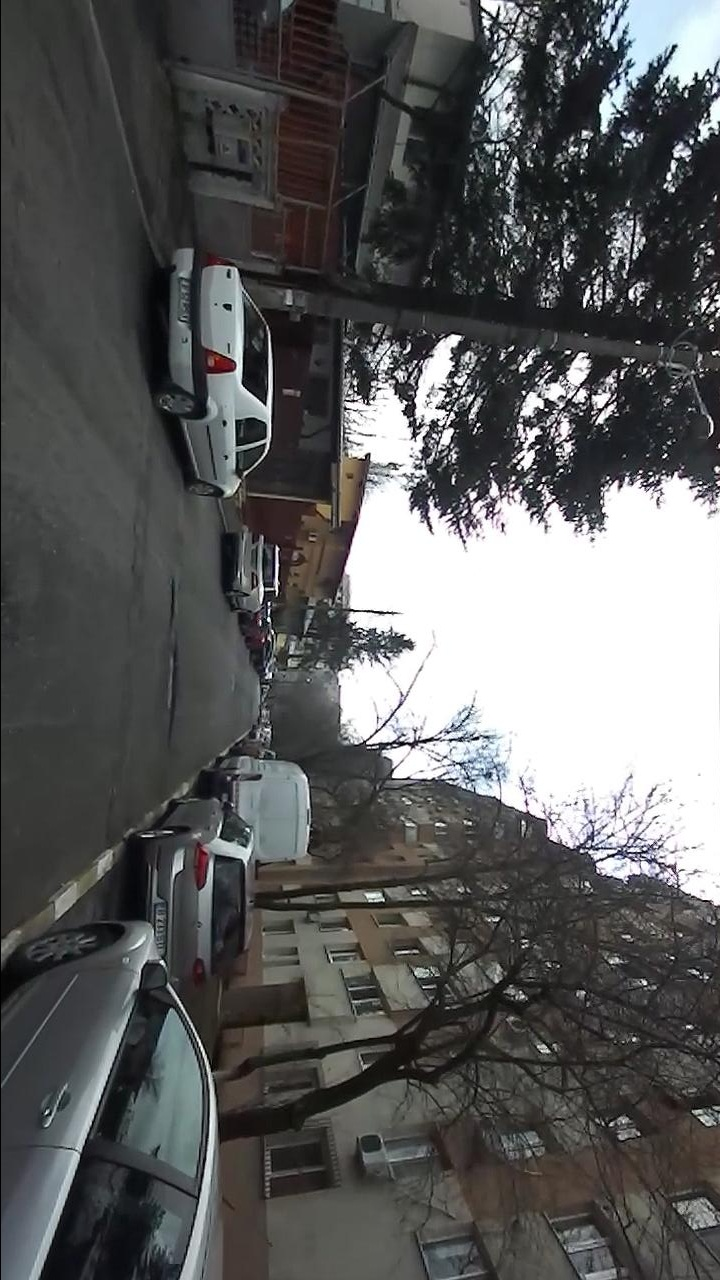pothole: (163, 646, 179, 742), (166, 578, 178, 628)
